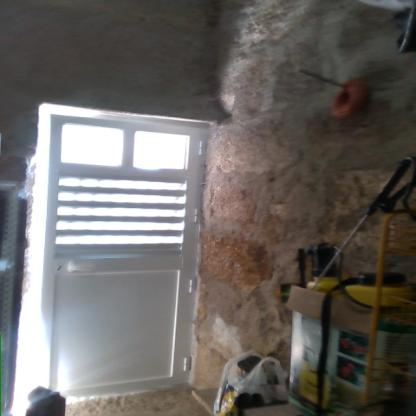closed: (45, 110, 205, 402)
